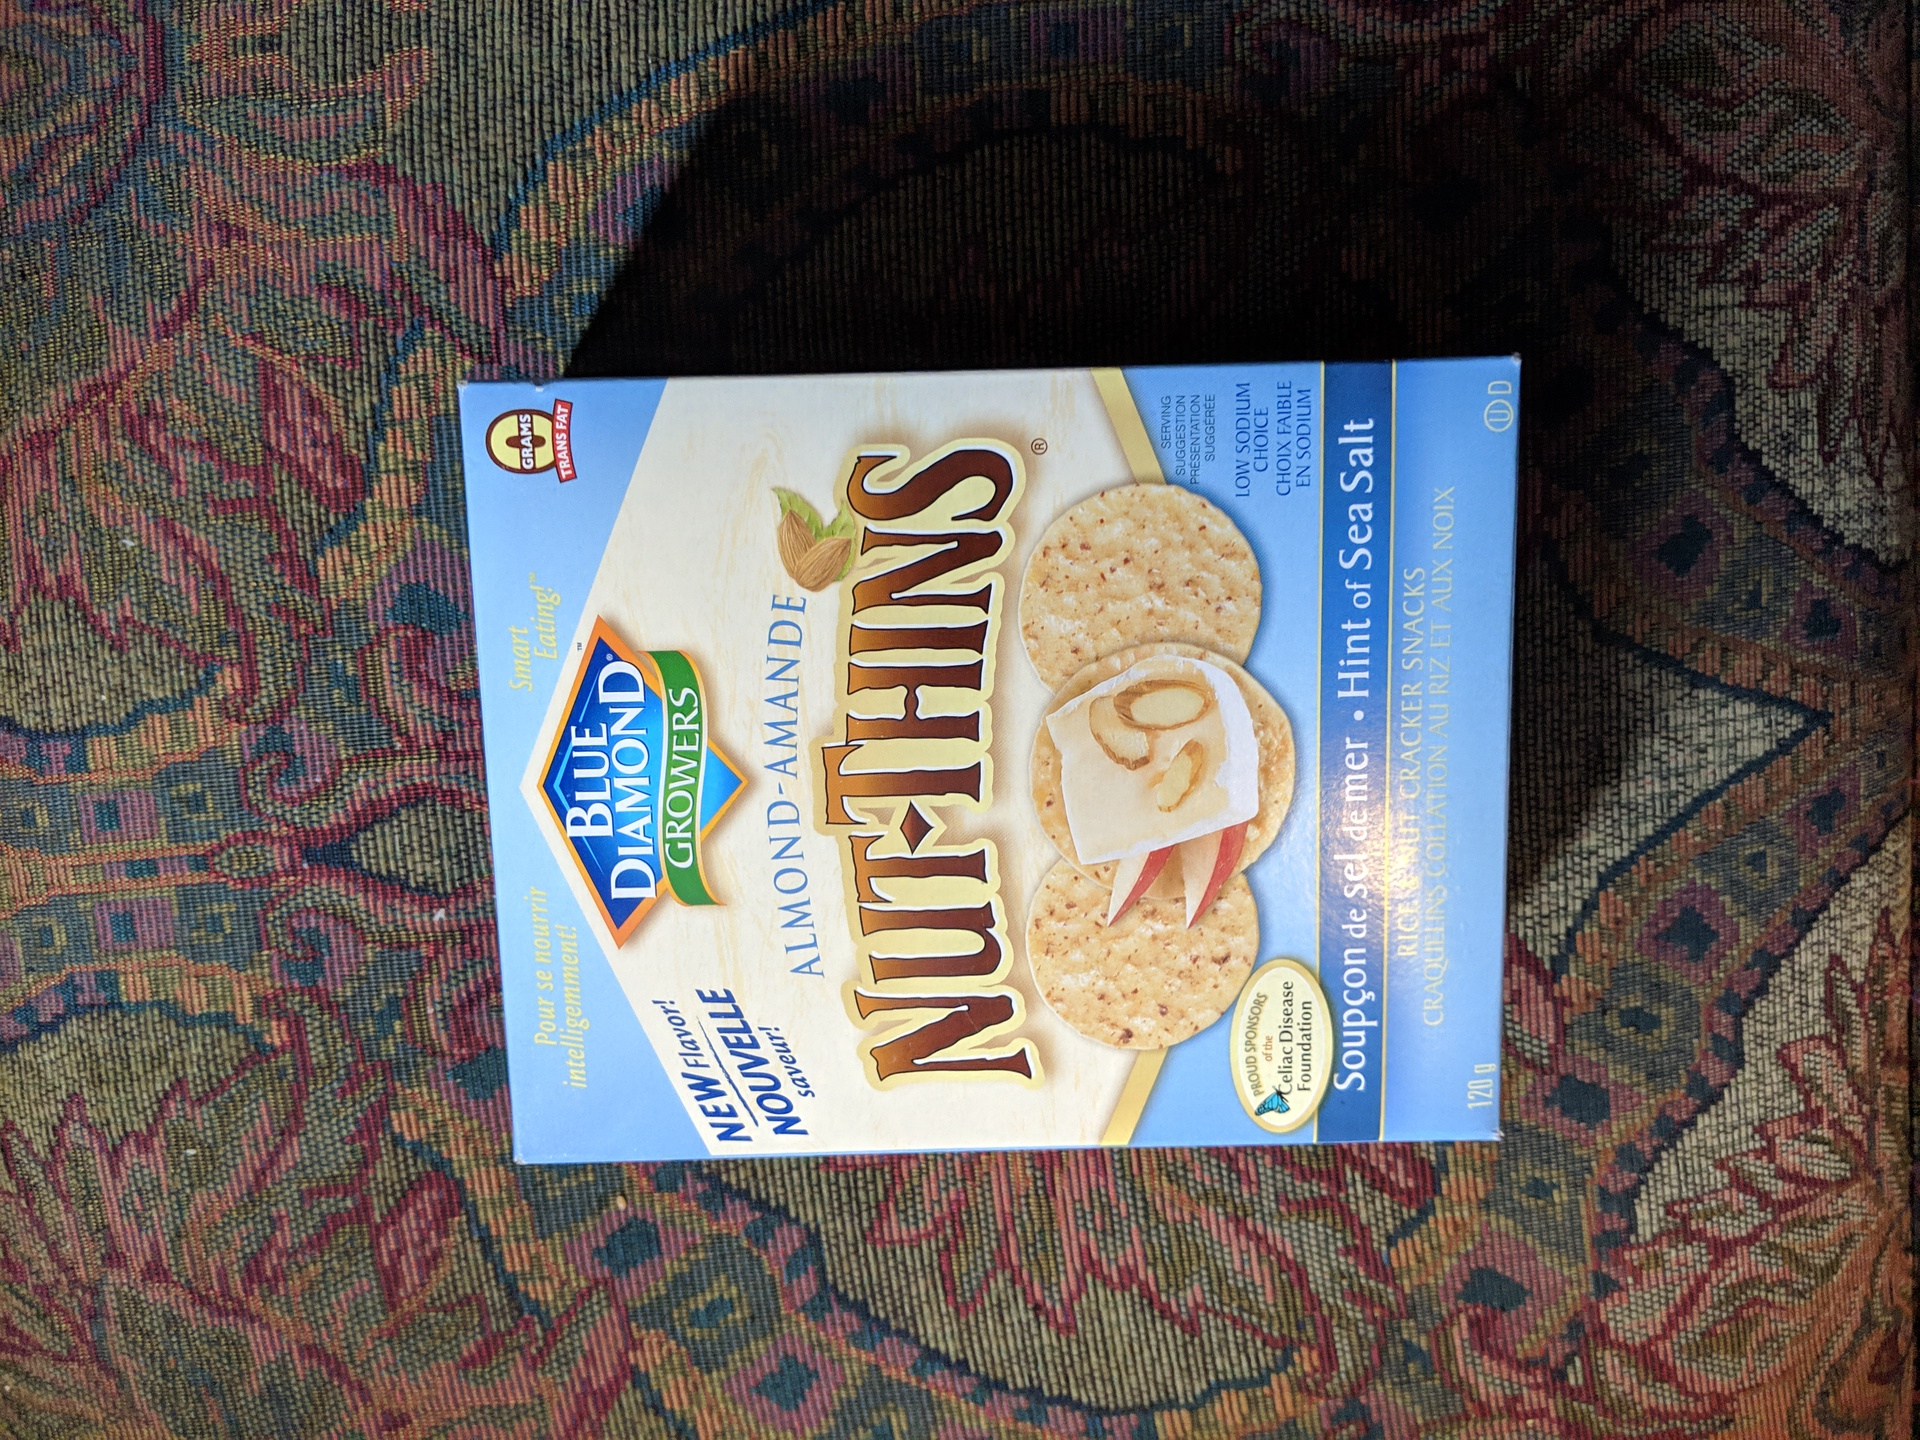blue_diamond_nut_thins_almond_seasalt: (478, 377, 1504, 1148)
